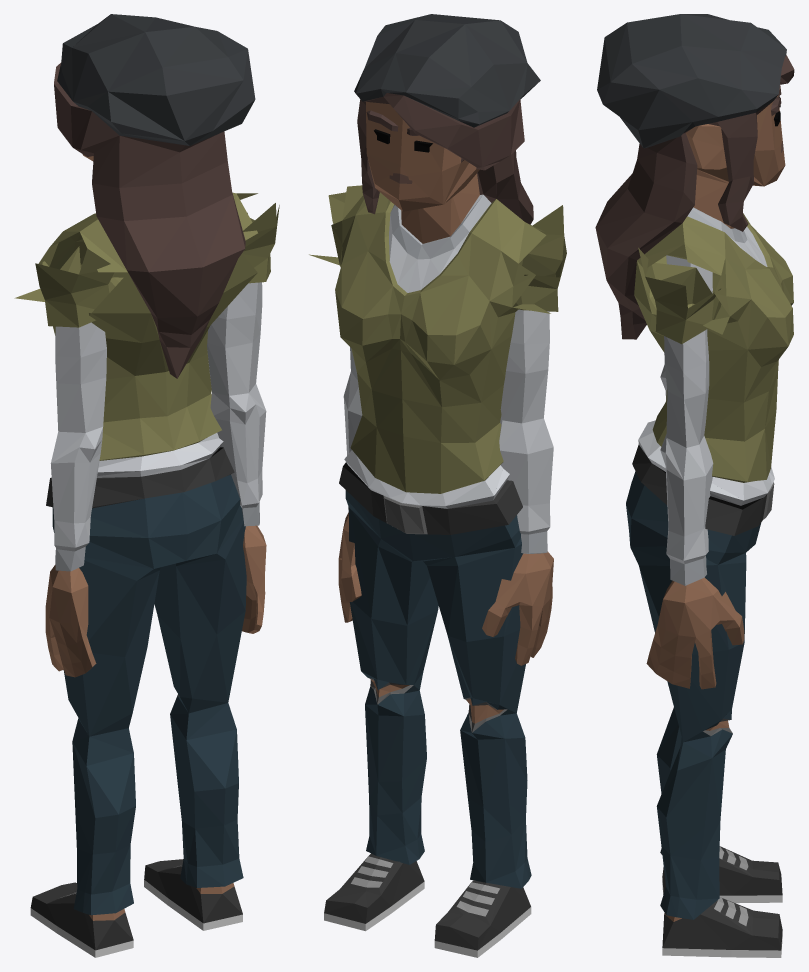
File: Demon_Daughter_01_stand.obj
The picture shows the model from 3 angles, left to right: view 1: azimuth 30°, elevation 25°; view 2: azimuth 150°, elevation 25°; view 3: azimuth 270°, elevation 25°; orthographic projection. The views are drawn at different scales.
Visible parts, largest first — view 1: Demon_Daughter_01_stand; view 2: Demon_Daughter_01_stand; view 3: Demon_Daughter_01_stand.
Boxes of the visible parts, box(x1,y1,x2,y2) form: Demon_Daughter_01_stand: box(14, 14, 279, 957); Demon_Daughter_01_stand: box(309, 14, 566, 957); Demon_Daughter_01_stand: box(595, 14, 794, 957).
Bounding box in the file's own units: 0.5319 × 1.84 × 0.3698.
1 material, 1 textured.
